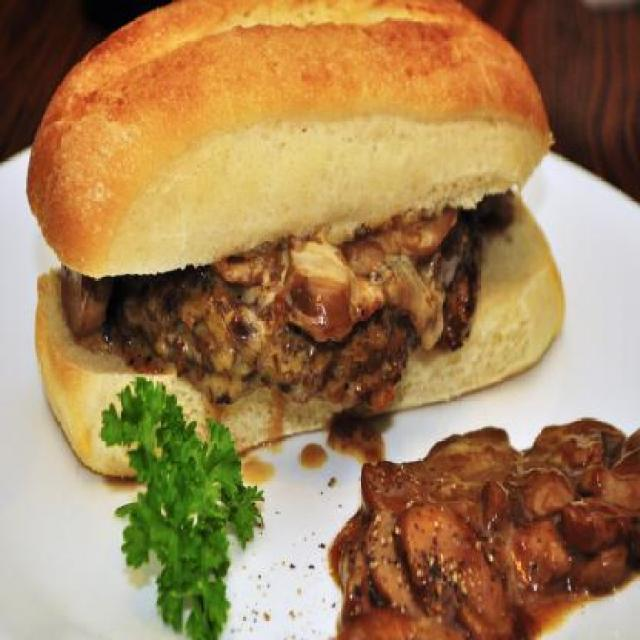Hamburger: (26, 0, 566, 475)
